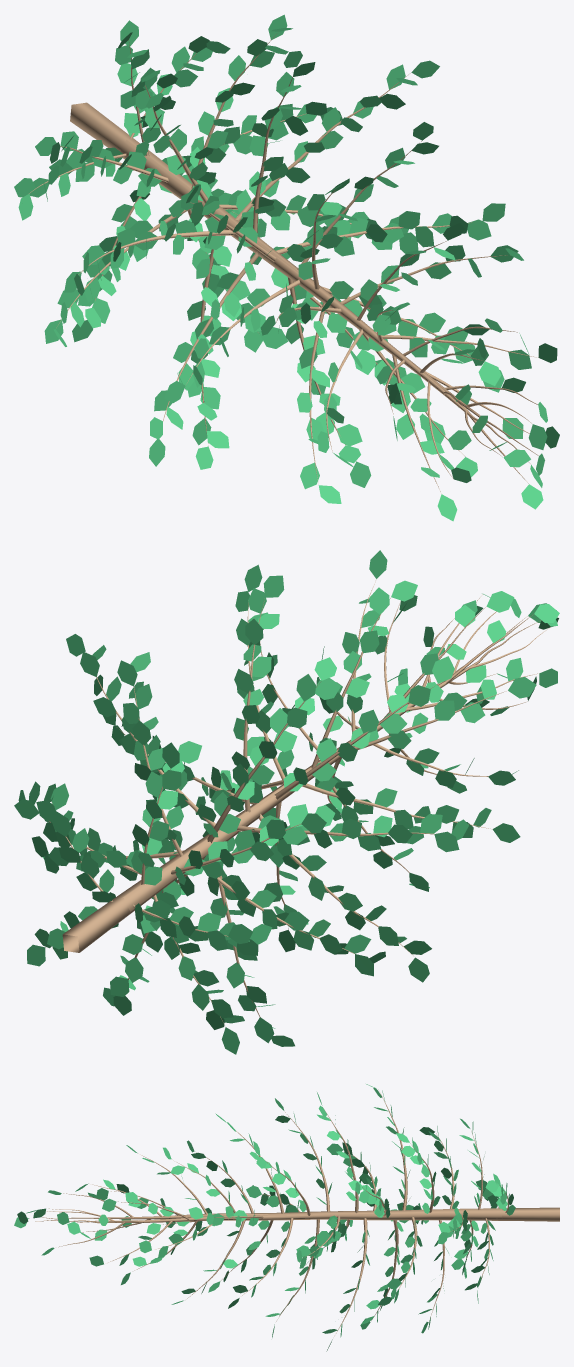
The model's file is saplingTree_high.glb.
3 renders of one model, top to bottom at view 1: azimuth 30°, elevation 25°; view 2: azimuth 150°, elevation 25°; view 3: azimuth 270°, elevation 25°, orthographic. The views are drawn at different scales.
Parts seen in each view (by area): view 1: saplingTree.001; view 2: saplingTree.001; view 3: saplingTree.001.
Boxes of the visible parts, bbox=[...] form: saplingTree.001: bbox=[14, 14, 559, 521]; saplingTree.001: bbox=[14, 550, 559, 1054]; saplingTree.001: bbox=[14, 1084, 559, 1351].
Bounding box in the file's own units: 2.14 × 2.22 × 4.4.
